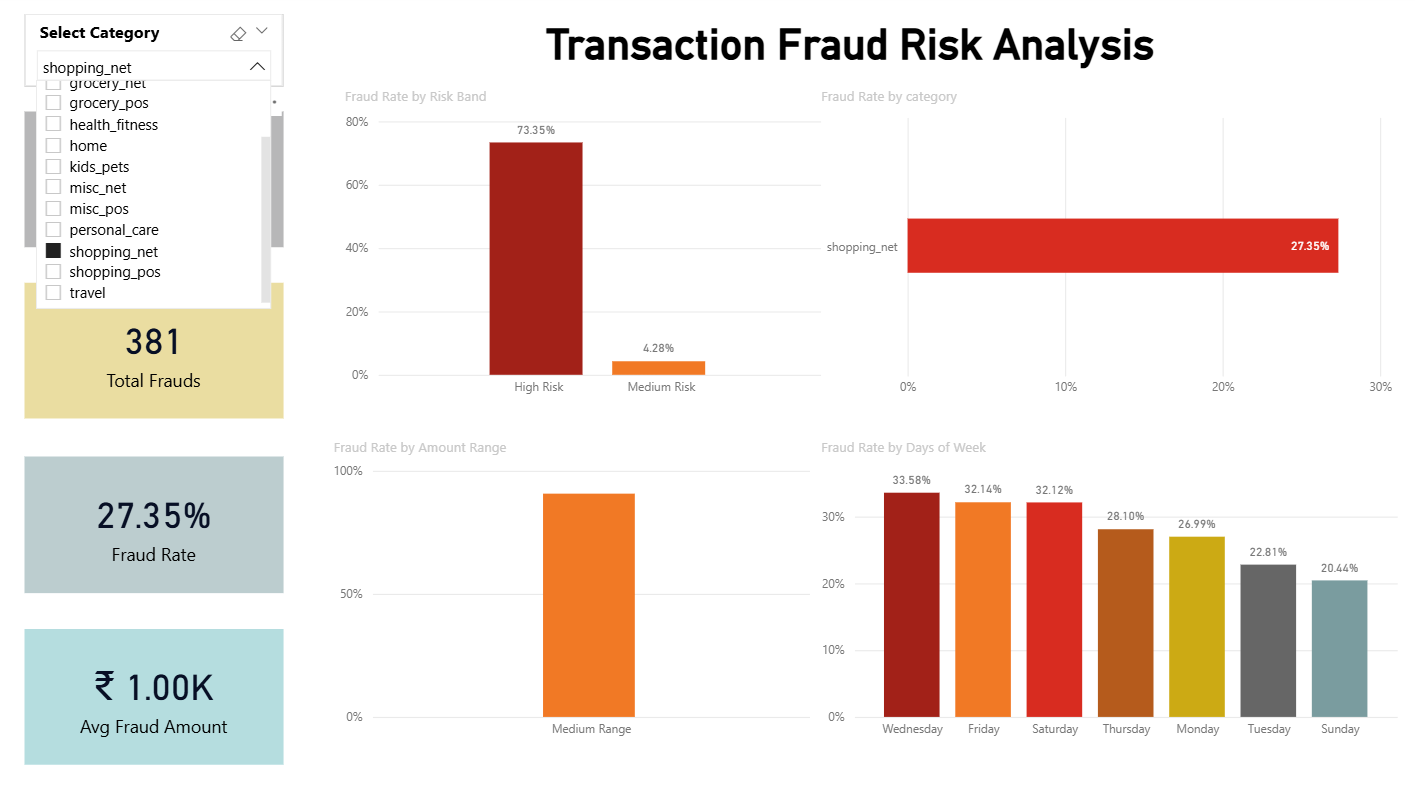

The page's visual inventory and layout, read from the dashboard file:
{"tool":"powerbi","page":{"name":"Page 1","canvas":[1280,720],"ordinal":0},"visuals":[{"type":"card","fields":{"Values":["Fraud Data Analysis.Total Transactions"]},"box":[24.7,105.7,233.3,122.1],"z":0},{"type":"card","fields":{"Values":["Fraud Data Analysis.Avg Fraud Amount"]},"box":[24.7,572.2,233.3,122.1],"z":1000},{"type":"card","fields":{"Values":["Fraud Data Analysis.Fraud Rate"]},"box":[24.7,417.2,233.3,123.5],"z":2000},{"type":"card","fields":{"Values":["Fraud Data Analysis.Total Frauds"]},"box":[24.7,260.7,233.3,122.1],"z":3000},{"type":"columnChart","title":"Fraud Rate by Risk Band","fields":{"Category":["Fraud Data Analysis.risk_band"],"Series":["Fraud Data Analysis.risk_band"],"Y":["Fraud Data Analysis.Fraud Rate"]},"box":[308.7,83.7,439.1,288.2],"z":4000},{"type":"columnChart","title":"Fraud Rate by Amount Range","fields":{"Category":["Fraud Data Analysis.amt_range"],"Y":["Fraud Data Analysis.Fraud Rate"],"Series":["Fraud Data Analysis.amt_range"]},"box":[299.1,400.7,439.1,279.9],"z":5000},{"type":"barChart","title":"Fraud Rate by category ","fields":{"Category":["Fraud Data Analysis.category"],"Y":["Fraud Data Analysis.Fraud Rate"],"Series":["Fraud Data Analysis.category"]},"box":[738.3,83.7,529.7,288.2],"z":6000},{"type":"columnChart","title":"Fraud Rate by Days of Week","fields":{"Series":["Fraud Data Analysis.weekday"],"Y":["Fraud Data Analysis.Fraud Rate"],"Category":["Fraud Data Analysis.weekday"]},"box":[738.3,400.7,529.7,279.9],"z":7000},{"type":"textbox","box":[440.5,17.8,657.3,61.7],"z":8000},{"type":"slicer","fields":{"Values":["Fraud Data Analysis.category"]},"box":[24.7,17.8,233.3,65.9],"z":9000}]}

Visuals, with their boxes in screenshot pixels (x1, y1, x2, y2), scaled from the page's 1280x720 canvas onto the 1415x792 screenshot:
card - Fraud Data Analysis.Total Transactions: (27, 116, 285, 251)
card - Fraud Data Analysis.Avg Fraud Amount: (27, 629, 285, 764)
card - Fraud Data Analysis.Fraud Rate: (27, 459, 285, 595)
card - Fraud Data Analysis.Total Frauds: (27, 287, 285, 421)
"Fraud Rate by Risk Band" columnChart: (341, 92, 827, 409)
"Fraud Rate by Amount Range" columnChart: (331, 441, 816, 749)
"Fraud Rate by category " barChart: (816, 92, 1402, 409)
"Fraud Rate by Days of Week" columnChart: (816, 441, 1402, 749)
textbox: (487, 20, 1214, 87)
slicer - Fraud Data Analysis.category: (27, 20, 285, 92)
